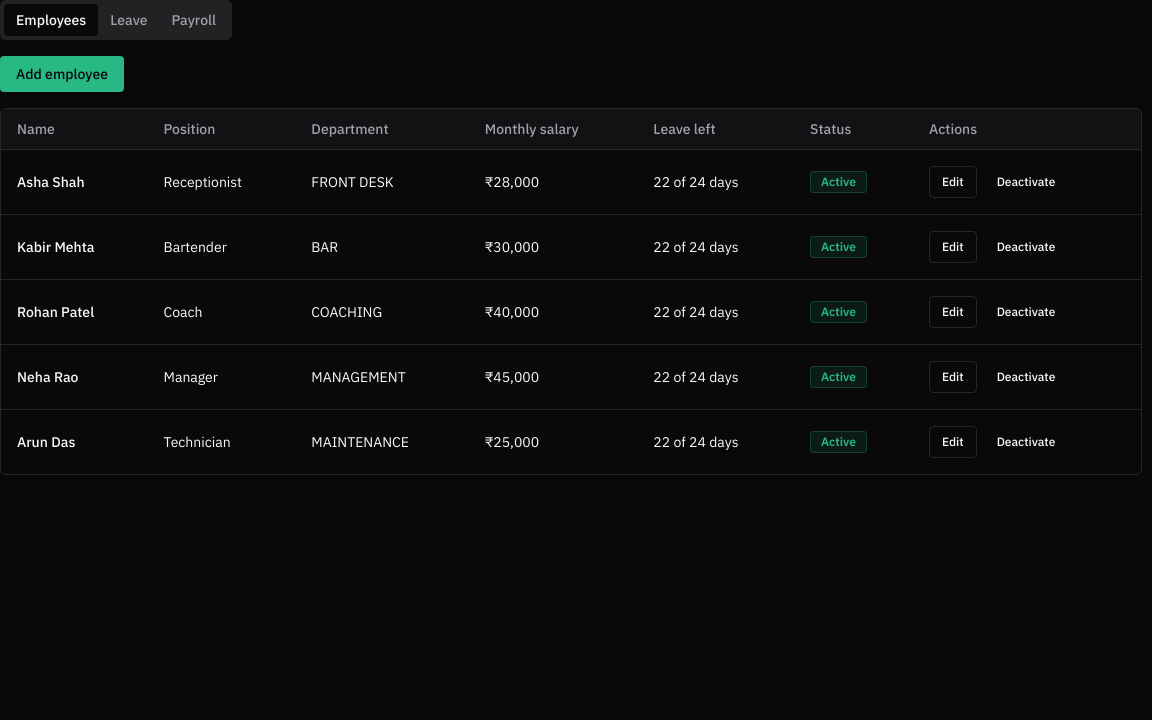
Staff workspace: allowance, deactivation and leave balance › keeps the dialog open and shows the reason when deactivating fails
Click the button with aria-label "Deactivate Asha Shah": (1026, 182) [985,166,1067,198]
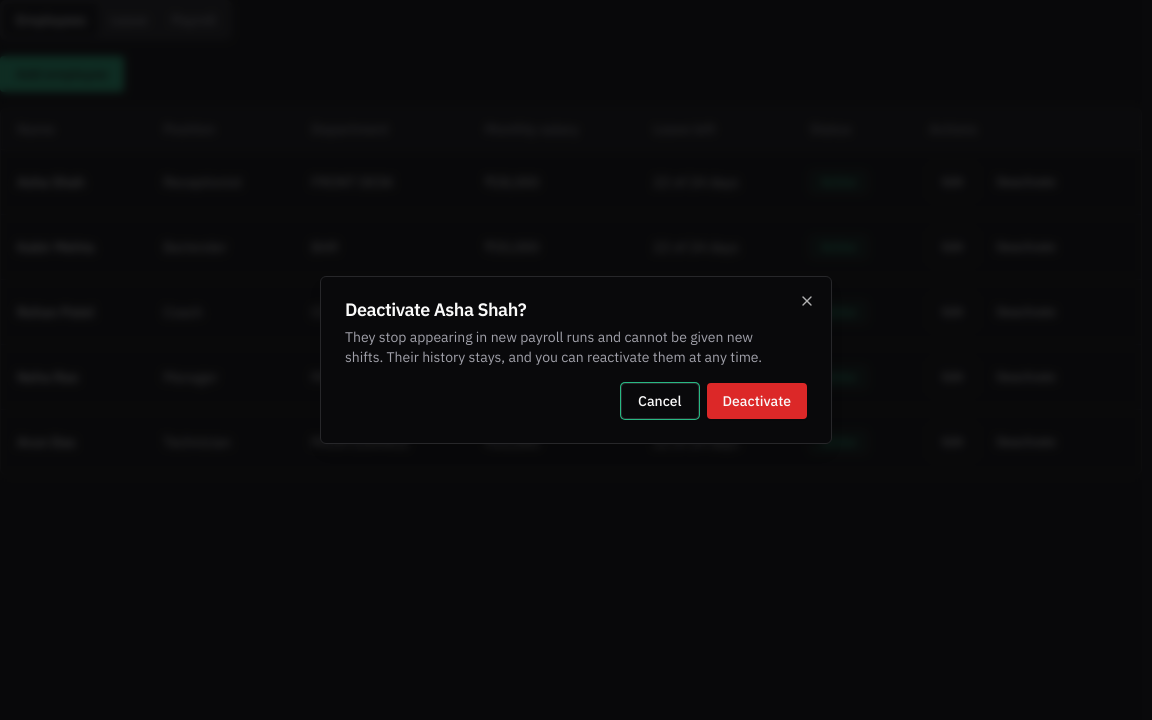
Click the button "Deactivate": (757, 401) [706,383,807,419]
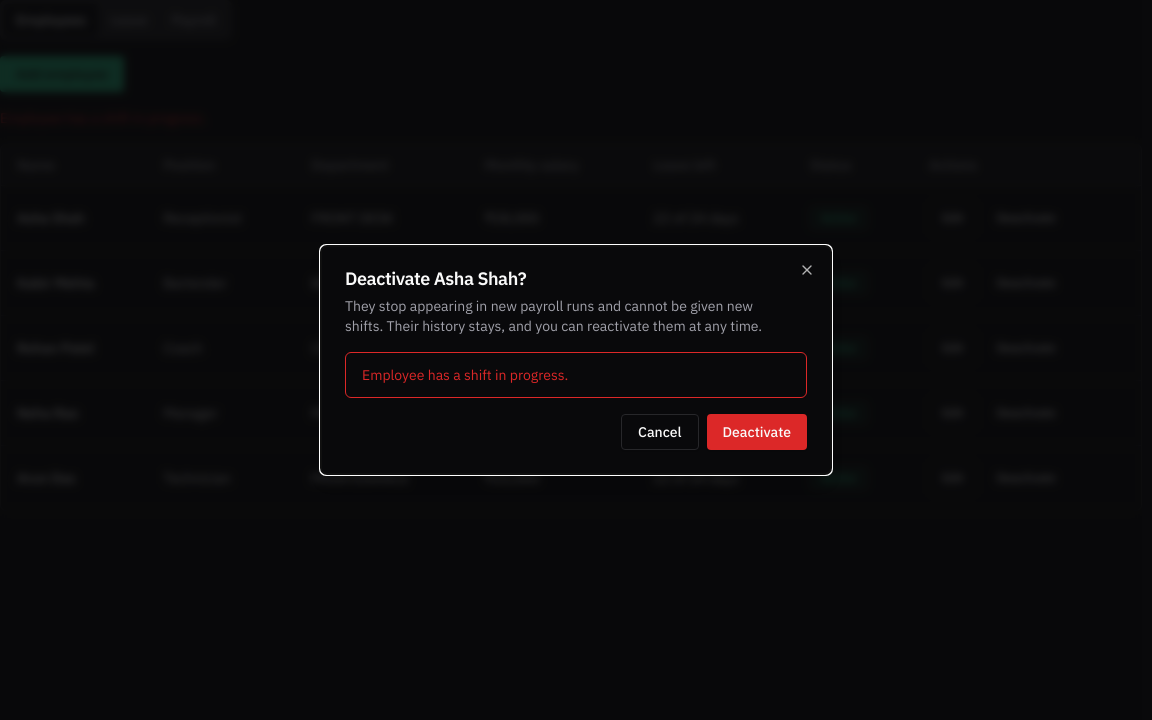
Now the dialog is shown, box [320,245,832,475]
Now the message reads "Employee has a shift in progress.", box [362,366,568,384]
